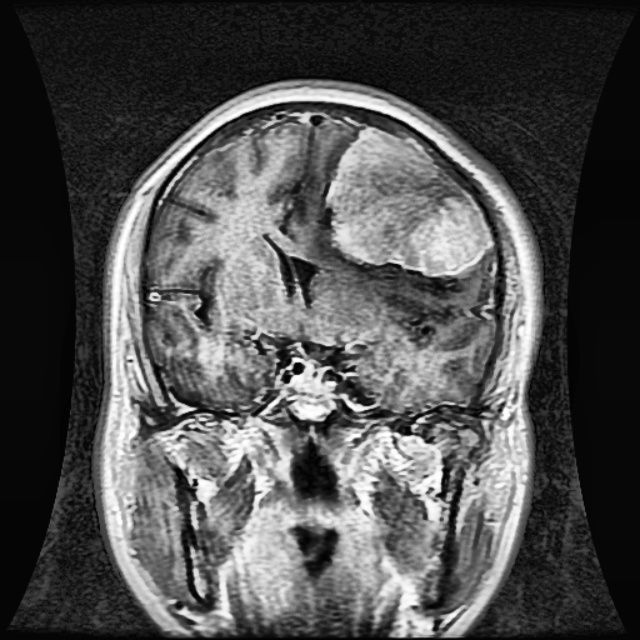Glioma: (327, 125, 493, 274)
